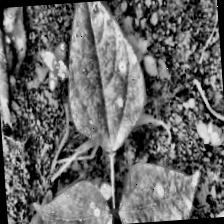Bean Rust: (64, 0, 147, 142), (112, 155, 202, 224), (33, 180, 115, 224)
